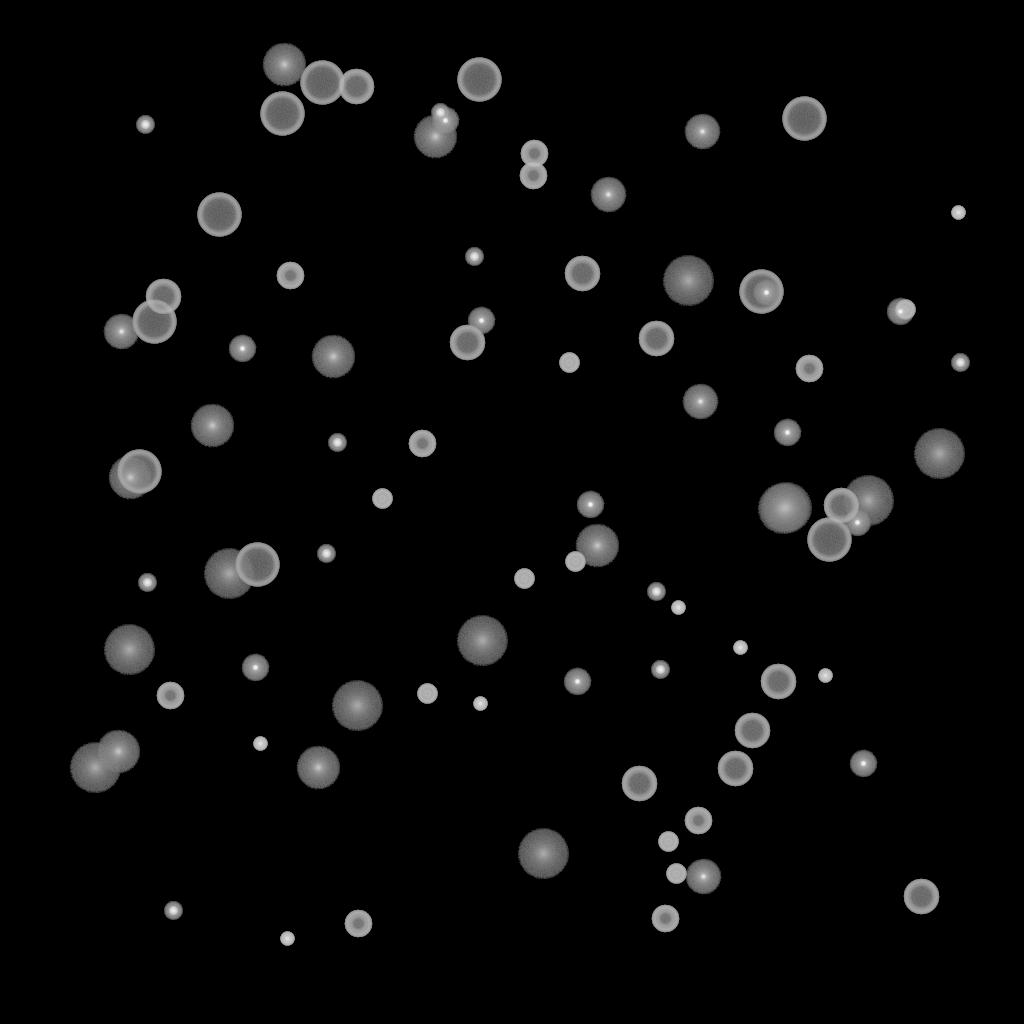depth:-10: (431, 107, 459, 135), (241, 654, 269, 682), (843, 509, 871, 537), (563, 668, 591, 696), (849, 750, 877, 778), (886, 298, 914, 326), (467, 307, 495, 335), (773, 419, 801, 447), (576, 491, 604, 519), (228, 335, 256, 363), (752, 279, 780, 307)
depth:-20: (651, 661, 669, 679), (647, 583, 665, 601), (164, 902, 182, 920), (138, 574, 156, 592), (317, 545, 335, 563), (465, 248, 483, 266), (951, 354, 969, 372), (136, 116, 154, 134), (431, 104, 449, 122), (328, 434, 346, 452)
depth:-30: (253, 737, 267, 751), (951, 206, 965, 220), (473, 697, 487, 711), (280, 932, 294, 946), (733, 641, 747, 655), (818, 669, 832, 683), (671, 601, 685, 615)
depth:-40: (565, 552, 585, 572), (372, 489, 392, 509), (658, 832, 678, 852), (514, 569, 534, 589), (666, 864, 686, 884), (895, 300, 915, 320), (417, 684, 437, 704), (559, 353, 579, 373)
depth:-50: (344, 910, 372, 938), (795, 355, 823, 383), (276, 262, 304, 290), (408, 430, 436, 458), (520, 140, 548, 168), (684, 807, 712, 835), (519, 162, 547, 190), (156, 682, 184, 710), (651, 905, 679, 933)
depth:-60: (823, 488, 859, 524), (903, 879, 939, 915), (449, 325, 485, 361), (638, 321, 674, 357), (338, 69, 374, 105), (760, 664, 796, 700), (564, 256, 600, 292), (145, 279, 181, 315), (621, 766, 657, 802), (717, 751, 753, 787), (734, 713, 770, 749)
depth:-70: (782, 97, 826, 141), (117, 450, 161, 494), (132, 300, 176, 344), (235, 543, 279, 587), (457, 58, 501, 102), (807, 518, 851, 562), (197, 193, 241, 237), (260, 92, 304, 136), (739, 270, 783, 314), (300, 61, 344, 105)
depth:0: (103, 314, 139, 350), (684, 114, 720, 150), (685, 859, 721, 895), (682, 384, 718, 420), (590, 177, 626, 213)
depth:10: (190, 404, 234, 448), (296, 746, 340, 790), (413, 115, 457, 159), (311, 335, 355, 379), (575, 524, 619, 568), (108, 456, 152, 500), (262, 43, 306, 87), (96, 730, 140, 774)
depth:20: (103, 625, 155, 675), (331, 681, 383, 731), (757, 484, 809, 534), (203, 549, 255, 599), (69, 743, 121, 793), (517, 829, 569, 879), (913, 429, 965, 479), (662, 256, 714, 306), (760, 483, 812, 533), (842, 476, 894, 526), (456, 616, 508, 666)
